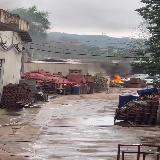fire: (114, 75, 124, 83)
